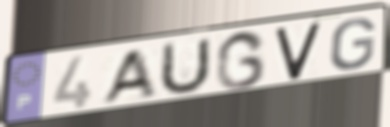4: (51, 54, 95, 111)
A: (97, 46, 159, 108)
G: (213, 28, 268, 91), (328, 16, 378, 72)
U: (156, 36, 213, 99)
V: (273, 19, 324, 82)
